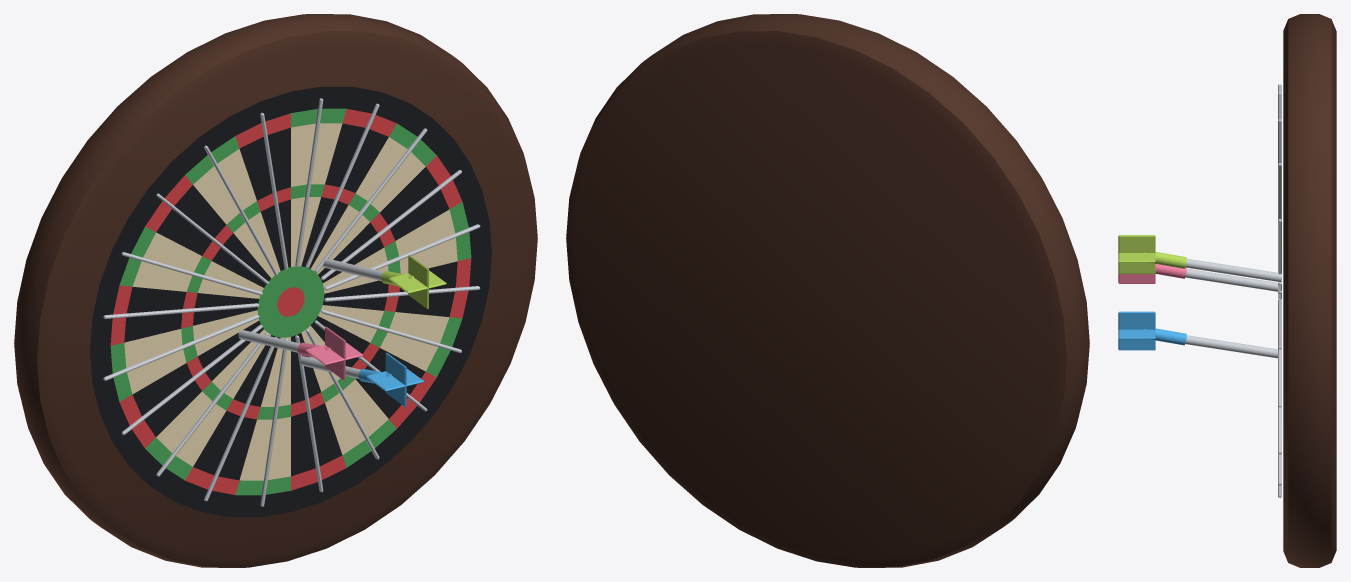
The model's file is alvo_dardos.glb.
3 views of the same model, side by side, from view 1: azimuth 30°, elevation 25°; view 2: azimuth 150°, elevation 25°; view 3: azimuth 270°, elevation 25° (orthographic). The views are drawn at different scales.
Parts seen in each view (by area): view 1: alvo_dardos; view 2: alvo_dardos; view 3: alvo_dardos.
Part boxes in pixels (x1=…): alvo_dardos: x1=14, y1=14, x2=537, y2=567; alvo_dardos: x1=566, y1=14, x2=1089, y2=567; alvo_dardos: x1=1118, y1=14, x2=1336, y2=567.
Size of the model in its own units: 0.52 by 0.52 by 0.2045.
1 material, 1 textured.
